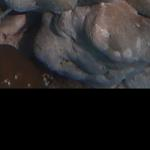dead: (2, 1, 147, 87)
